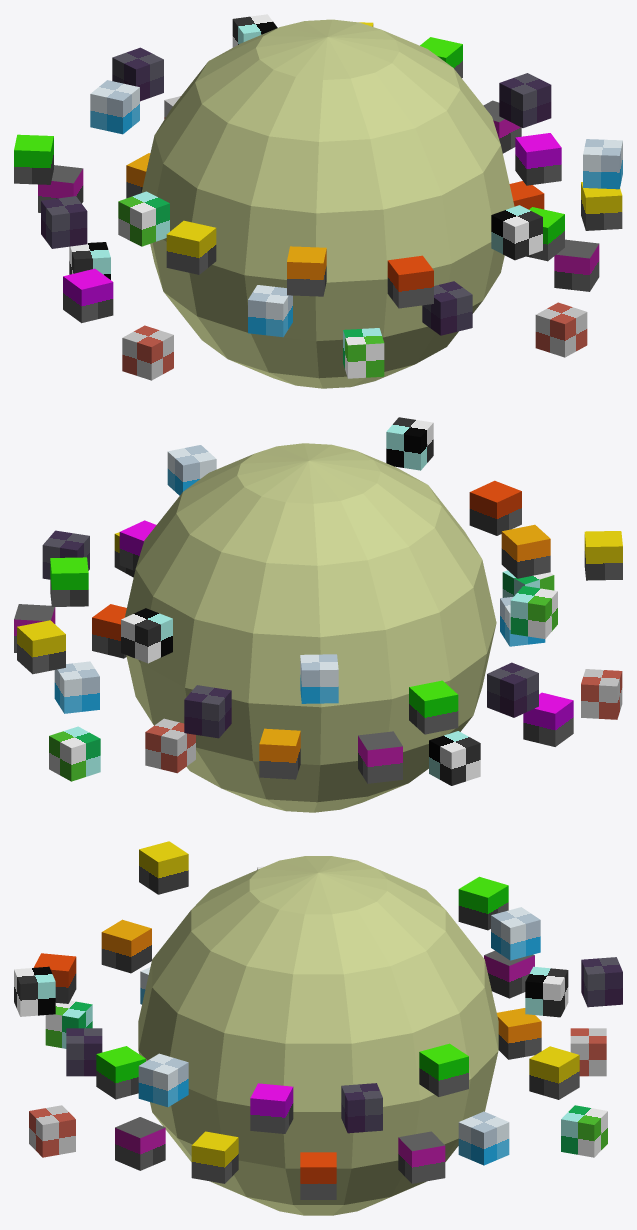
Rendered from World_5.fbx.
3 renders of one model, top to bottom at view 1: azimuth 30°, elevation 25°; view 2: azimuth 150°, elevation 25°; view 3: azimuth 270°, elevation 25°, orthographic. The views are drawn at different scales.
Parts seen in each view (by area): view 1: sphere_1, cube_3, cube_24, cube_17, cube_14, cube_25, cube_27, cube_8, cube_19, cube_20, cube_22, cube_23 (+17 smaller); view 2: sphere_1, cube_20, cube_4, cube_22, cube_11, cube_21, cube_26, cube_31, cube_28, cube, cube_16, cube_25 (+16 smaller); view 3: sphere_1, cube_13, cube_28, cube_7, cube_26, cube_30, cube_19, cube_29, cube_27, cube_10, cube_12, cube_3 (+15 smaller).
Boxes of the visible parts, x1,y1,x2,y2 form: sphere_1: (141, 19, 514, 388); cube_3: (535, 302, 587, 357); cube_24: (499, 73, 551, 127); cube_17: (491, 205, 542, 260); cube_14: (122, 325, 173, 380); cube_25: (118, 191, 169, 246); cube_27: (166, 220, 216, 274); cube_8: (63, 268, 113, 323); cube_19: (90, 80, 139, 134); cube_20: (387, 255, 433, 308); cube_22: (41, 196, 87, 248); cube_23: (515, 133, 561, 185); sphere_1: (125, 443, 496, 812); cube_20: (469, 480, 521, 535); cube_4: (49, 726, 100, 781); cube_22: (487, 662, 538, 717); cube_11: (429, 731, 480, 785); cube_21: (121, 608, 172, 663); cube_26: (501, 524, 550, 578); cube_31: (409, 680, 458, 734); cube_28: (17, 620, 65, 674); cube: (145, 718, 195, 773); cube_16: (184, 685, 231, 738); cube_25: (510, 586, 557, 638); sphere_1: (138, 856, 498, 1215); cube_13: (458, 1111, 509, 1165); cube_28: (529, 1046, 579, 1099); cube_7: (115, 1117, 165, 1170); cube_26: (101, 919, 151, 973); cube_30: (138, 1053, 188, 1107); cube_19: (491, 907, 540, 960); cube_29: (419, 1043, 468, 1096); cube_27: (139, 841, 188, 894); cube_10: (191, 1131, 238, 1183); cube_12: (398, 1131, 445, 1183); cube_3: (29, 1105, 75, 1157).
Size of the model in its own units: 195 by 125 by 211.
Materials: 3 (3 with a texture image).
